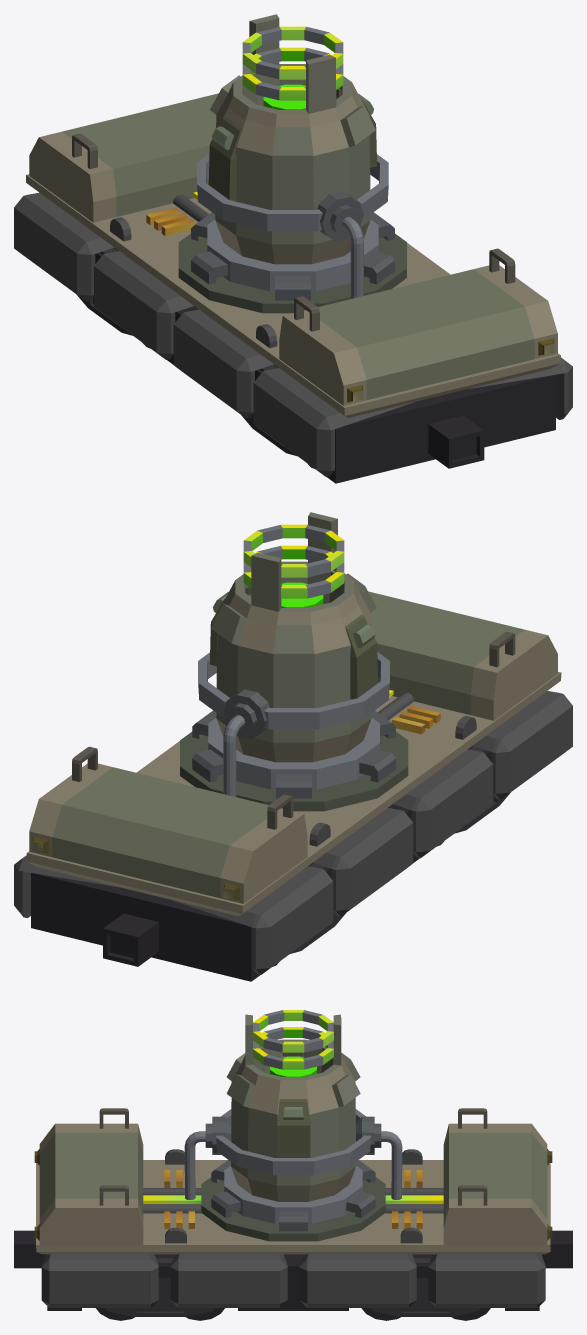
Rendered from mesh_util_1_heal.fbx.
The picture shows the model from 3 angles, top to bottom: view 1: azimuth 30°, elevation 25°; view 2: azimuth 150°, elevation 25°; view 3: azimuth 270°, elevation 25°; orthographic projection. The views are drawn at different scales.
Visible parts, largest first — view 1: util_1_reg_base, util_1_reg_comp; view 2: util_1_reg_base, util_1_reg_comp; view 3: util_1_reg_base, util_1_reg_comp.
Part boxes in pixels (x1,y1,x2,y2): util_1_reg_base: [14, 93, 572, 483]; util_1_reg_comp: [178, 14, 406, 313]; util_1_reg_base: [14, 591, 572, 981]; util_1_reg_comp: [180, 512, 408, 811]; util_1_reg_base: [14, 1108, 572, 1320]; util_1_reg_comp: [184, 1010, 402, 1241].
Size of the model in its own units: 3.59 by 4.39 by 8.39.
